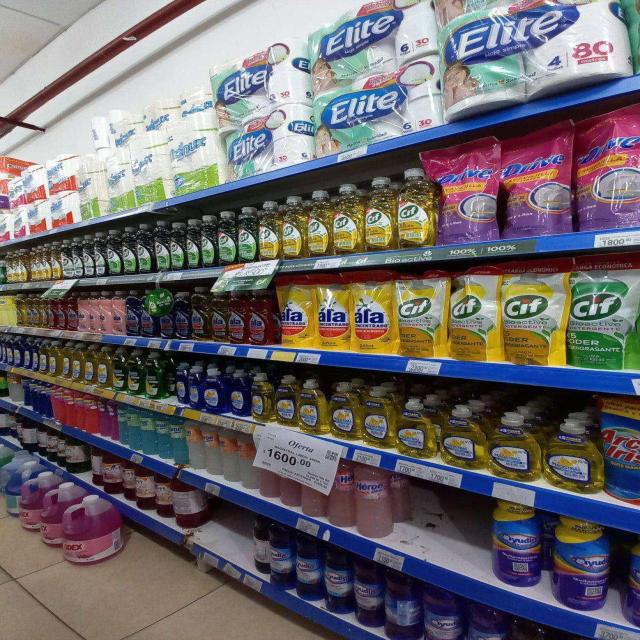ala_conc_amarillo: (210, 289, 228, 343), (192, 290, 210, 342)
ala_conc_azul: (175, 293, 190, 340), (126, 291, 140, 336), (140, 298, 156, 337), (158, 303, 174, 339)
ala_conc_rojo: (248, 289, 277, 346), (228, 290, 247, 344), (66, 294, 78, 331), (55, 295, 65, 330)
ala_sachet_amarillo: (353, 271, 396, 354), (280, 275, 315, 349), (317, 274, 351, 350)
cif_conc_bot_amarilla: (396, 167, 434, 248), (364, 174, 394, 252), (332, 183, 363, 255), (306, 189, 330, 257), (281, 196, 304, 259), (258, 200, 280, 261), (31, 246, 47, 281), (12, 250, 28, 283)
cif_conc_botella_verde: (237, 206, 257, 263), (216, 211, 236, 265), (136, 224, 152, 274), (154, 222, 169, 272), (170, 220, 185, 270), (201, 215, 215, 268), (186, 219, 200, 269), (122, 227, 136, 275), (108, 228, 121, 276), (68, 238, 82, 278), (83, 234, 95, 278), (96, 232, 107, 278)
cif_conc_sachet_amarillo: (501, 259, 564, 366), (448, 267, 500, 361), (398, 271, 447, 357)
cif_conc_sachet_verde: (567, 256, 636, 369)
drive: (502, 124, 572, 237)
heroe: (355, 464, 390, 536), (330, 458, 354, 527), (220, 426, 237, 484), (239, 431, 256, 489), (170, 416, 187, 467), (204, 423, 220, 476), (187, 419, 203, 470), (118, 404, 135, 447), (140, 410, 156, 455), (157, 413, 170, 460), (100, 398, 114, 439)
magistral_con_amarillo: (543, 417, 602, 493), (488, 411, 540, 481), (440, 404, 486, 469), (397, 397, 436, 458), (362, 386, 394, 448), (330, 381, 360, 440), (299, 379, 328, 434), (275, 375, 298, 426), (251, 372, 274, 423), (96, 345, 111, 387), (85, 344, 96, 386), (59, 342, 71, 378), (72, 342, 82, 383), (48, 341, 59, 376), (37, 340, 47, 375)
magistral_con_azul: (202, 367, 227, 414), (229, 369, 249, 418), (24, 339, 35, 371)
